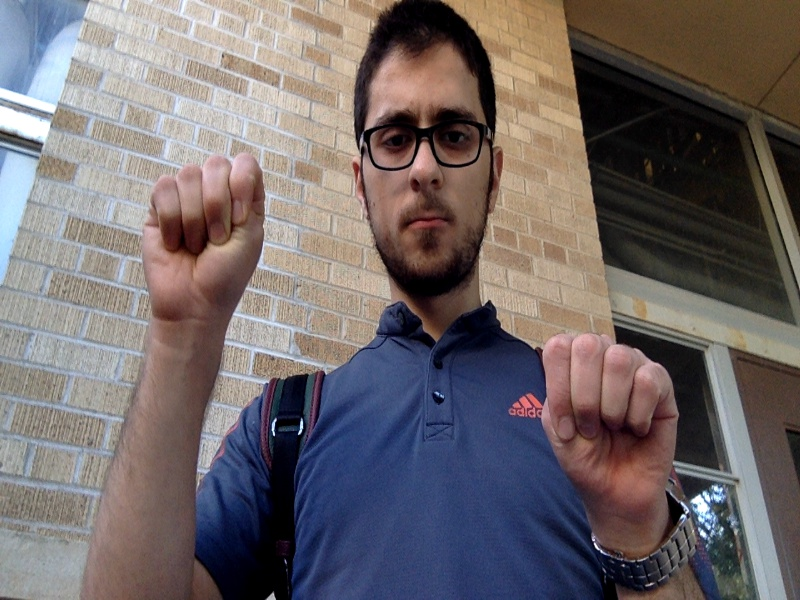0-hand: (542, 334, 674, 516), (142, 156, 263, 322)
